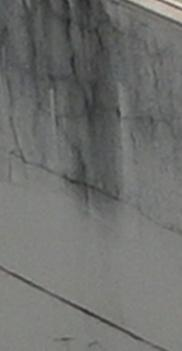fissura: (0, 29, 182, 238)
